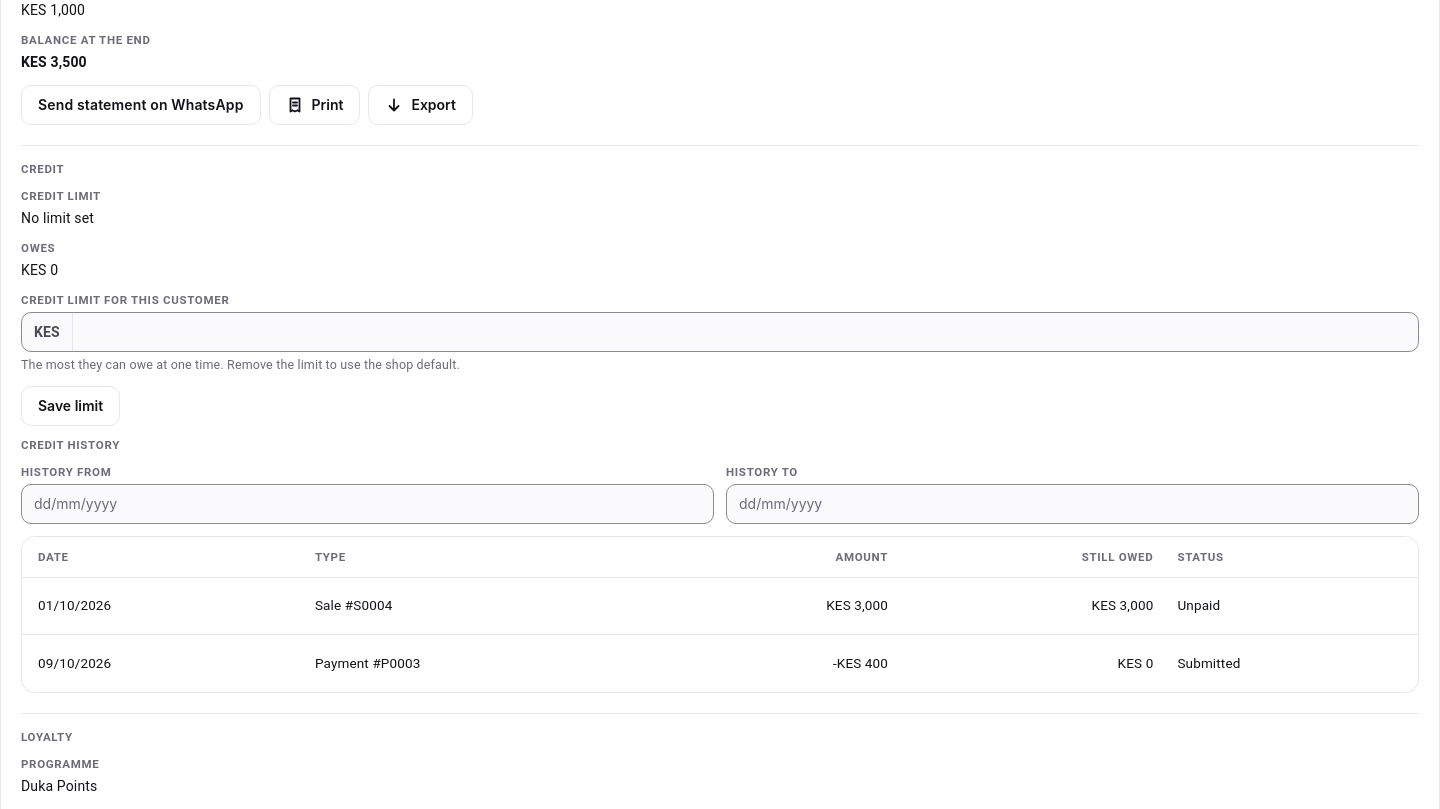
it: the Credit section (open question 15) › an empty limit is refused beside the field
(page scrolled)
Check: the field labelled "Credit limit for this customer" is shown, box [73,313,1418,351]
Click the button "Save limit".
click(71, 406)  # box [21,386,120,426]
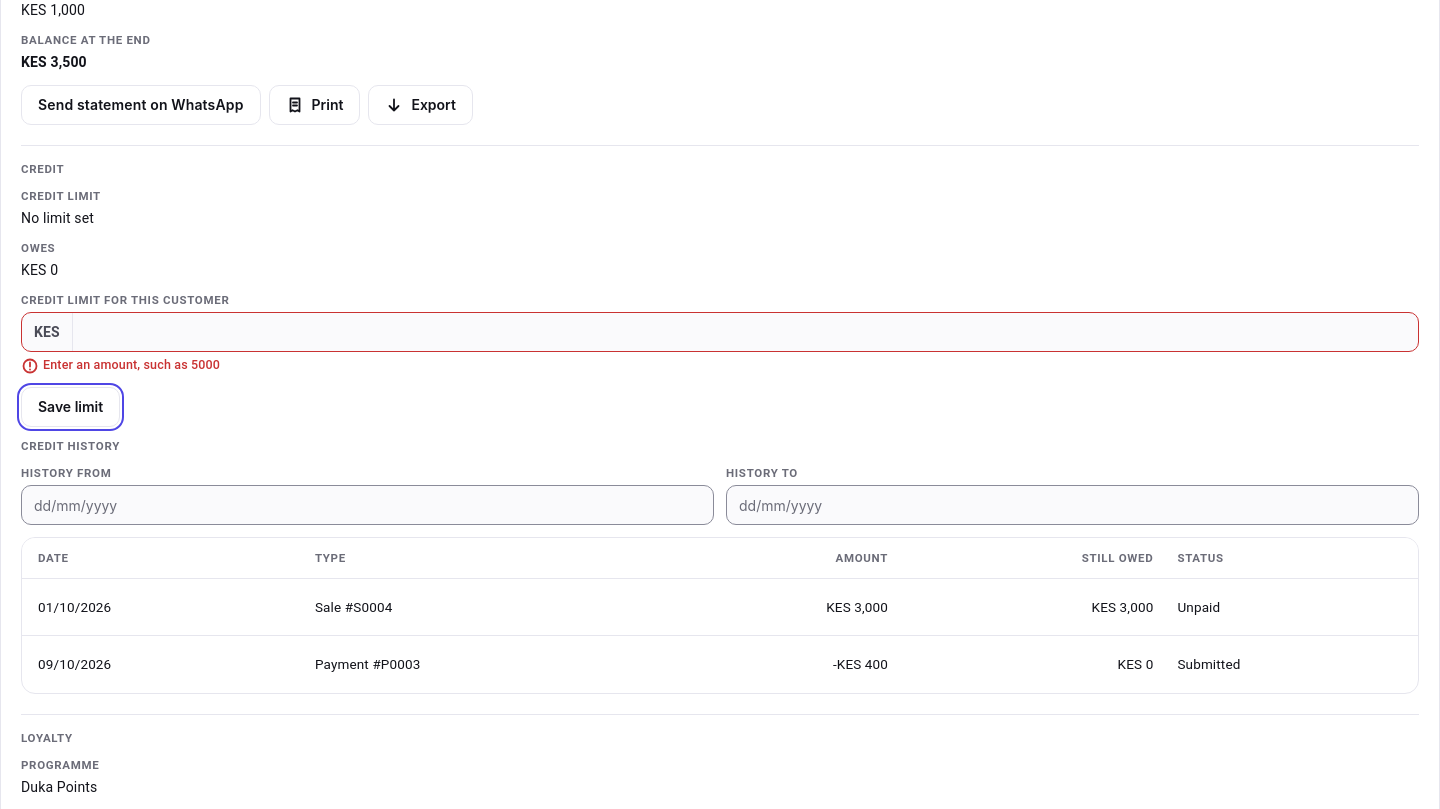
Check: the text "Enter an amount, such as 5000" is shown, box [43,356,220,374]
